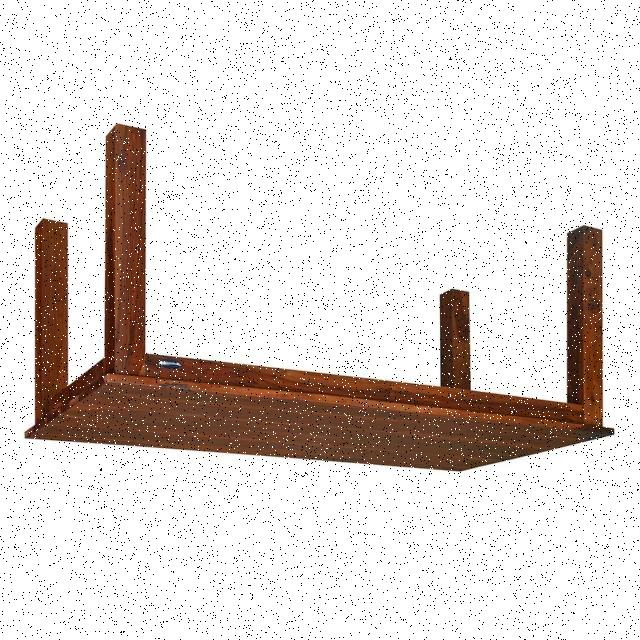mobile-phone: (23, 117, 616, 477)
